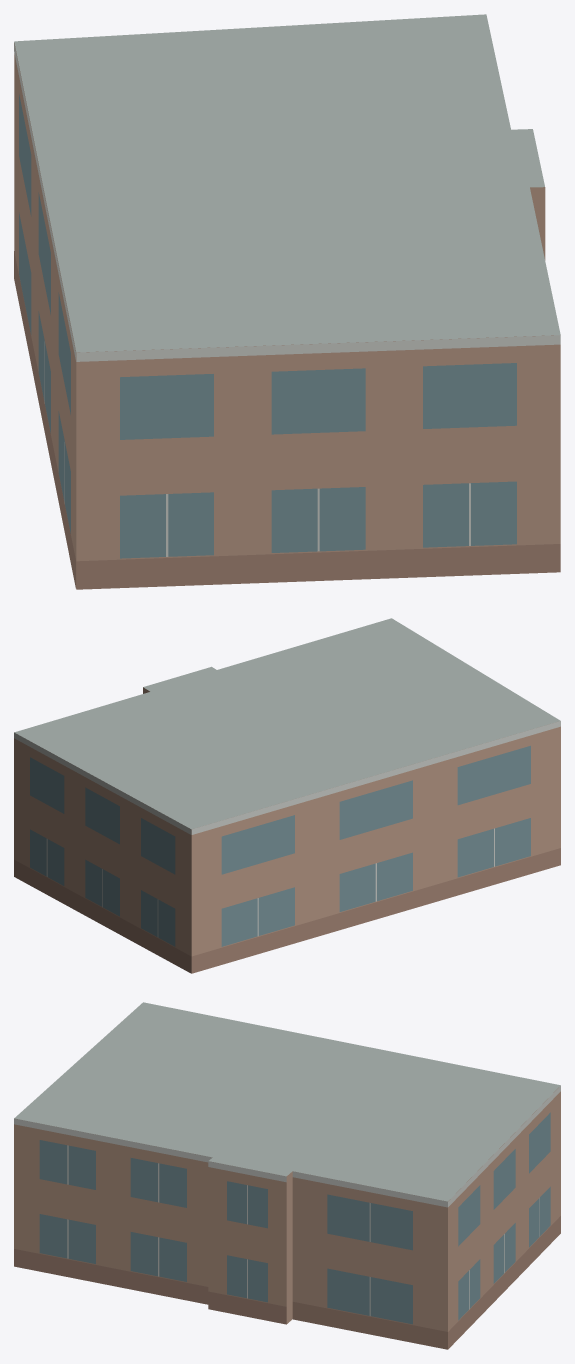
File: survey-upis-32979508.glb
3 views of the same model, one above another, from view 1: azimuth 30°, elevation 25°; view 2: azimuth 150°, elevation 25°; view 3: azimuth 270°, elevation 25° (orthographic). The views are drawn at different scales.
Visible parts, largest first — view 1: survey-upis-32979508.tmp; view 2: survey-upis-32979508.tmp; view 3: survey-upis-32979508.tmp.
Part boxes in pixels (left/top/right/bottom): survey-upis-32979508.tmp: left=14, top=14, right=560, bottom=589; survey-upis-32979508.tmp: left=14, top=618, right=560, bottom=973; survey-upis-32979508.tmp: left=14, top=1002, right=560, bottom=1349.
Size of the model in its own units: 17.62 by 6.1 by 20.42.
